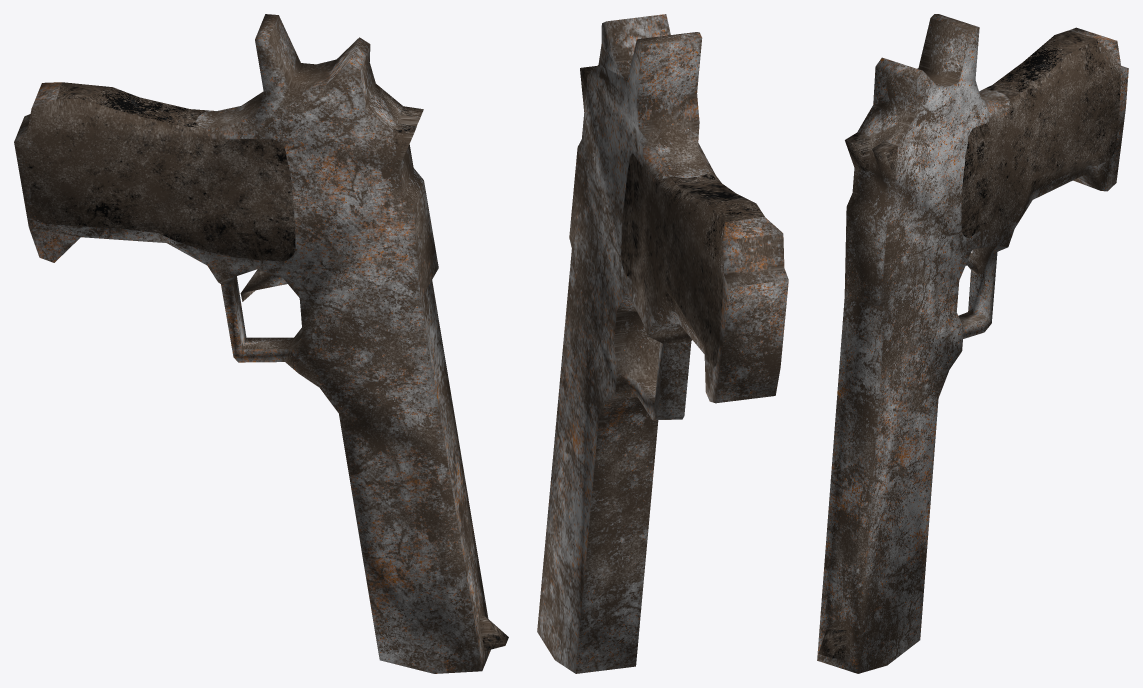
Rendered from Anim_idle_pistola_objetos.0039.obj.
3 renders of one model, left to right at view 1: azimuth 30°, elevation 25°; view 2: azimuth 150°, elevation 25°; view 3: azimuth 270°, elevation 25°, orthographic. The views are drawn at different scales.
Parts seen in each view (by area): view 1: Pistola1; view 2: Pistola1; view 3: Pistola1.
Boxes of the visible parts, left/top/right/bottom form: Pistola1: left=14, top=14, right=508, bottom=673; Pistola1: left=537, top=14, right=788, bottom=673; Pistola1: left=817, top=14, right=1128, bottom=673.
Size of the model in its own units: 0.9825 by 1.66 by 0.808.
